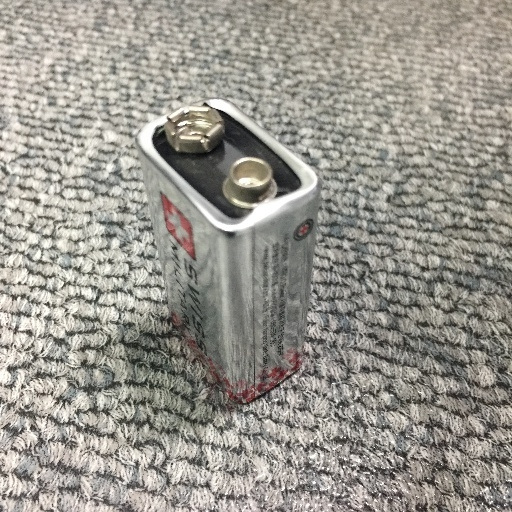Battery_3: (107, 82, 346, 422)
